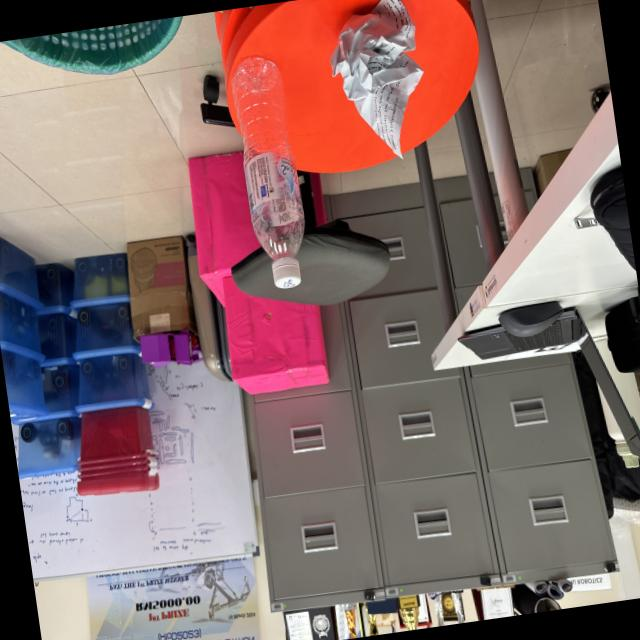crumpled_paper: (318, 0, 443, 175)
plastic_bottle: (219, 46, 324, 303)
